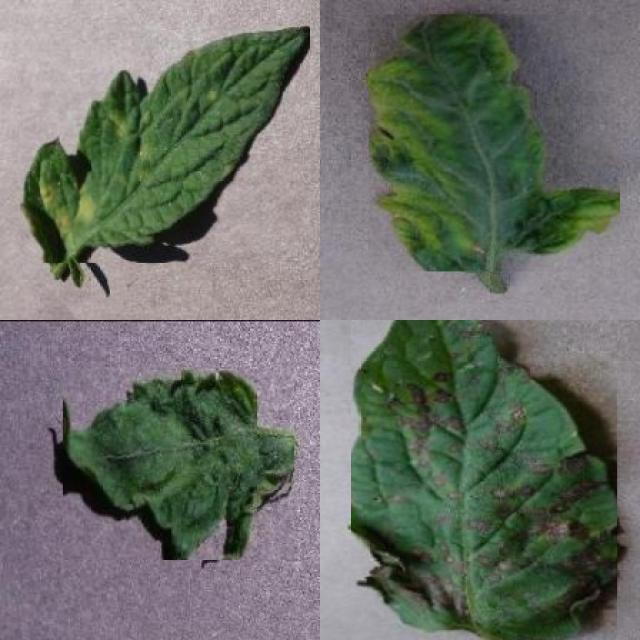Early Blight: (350, 320, 617, 640)
Leaf Mold: (20, 27, 310, 264)
Mosaic Virus: (63, 367, 294, 560)
Yellow Leaf Curl Virus: (369, 15, 620, 272)
